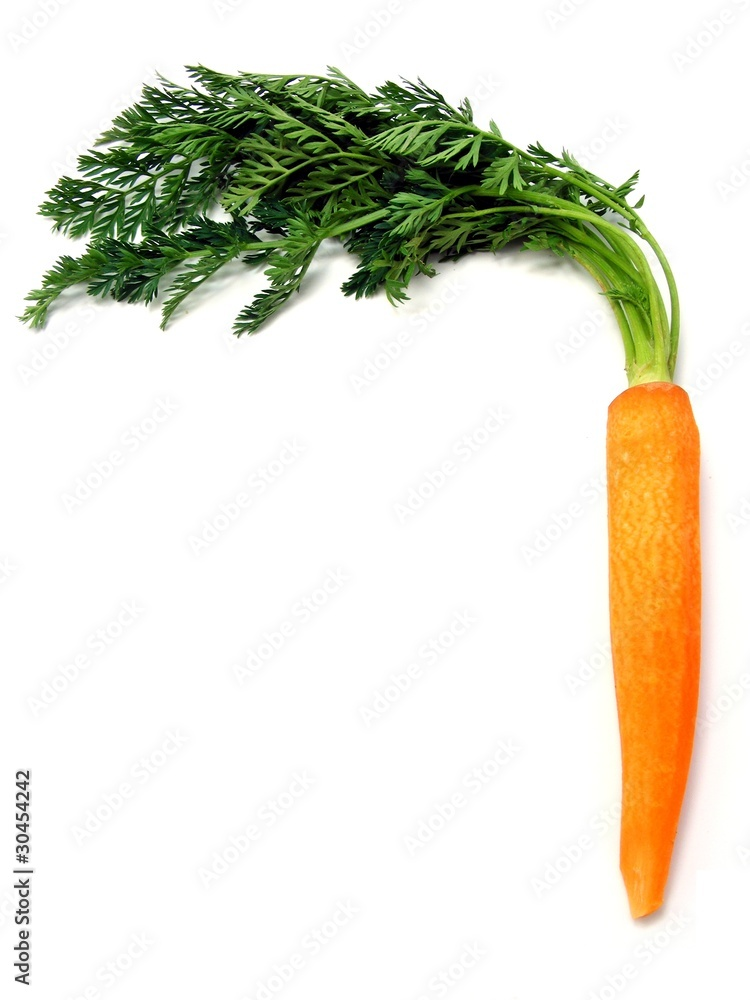carrot: (18, 33, 714, 944)
